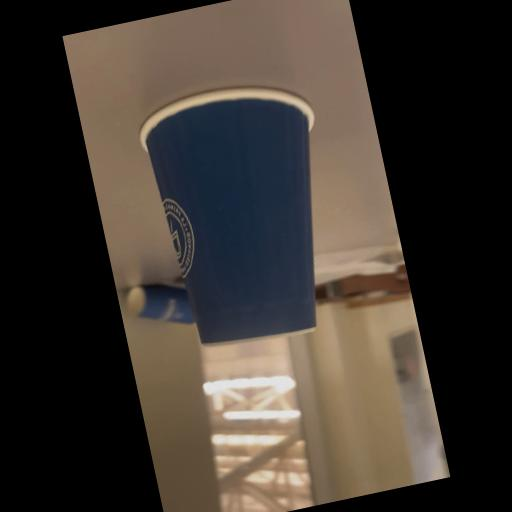lp_paper_cup: (133, 72, 358, 361)
